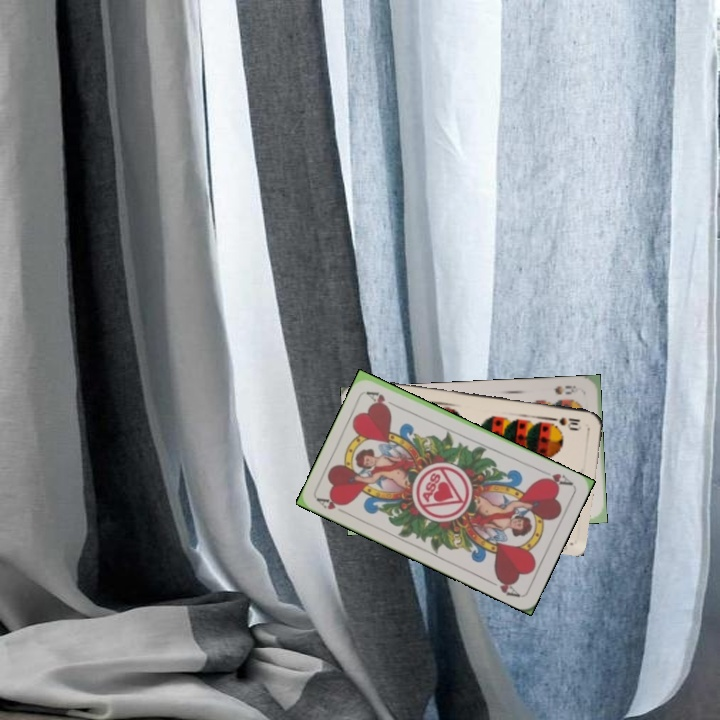HA: (314, 493, 352, 516), (536, 467, 575, 489)
S10: (547, 413, 583, 431)
S8: (551, 381, 584, 397)
